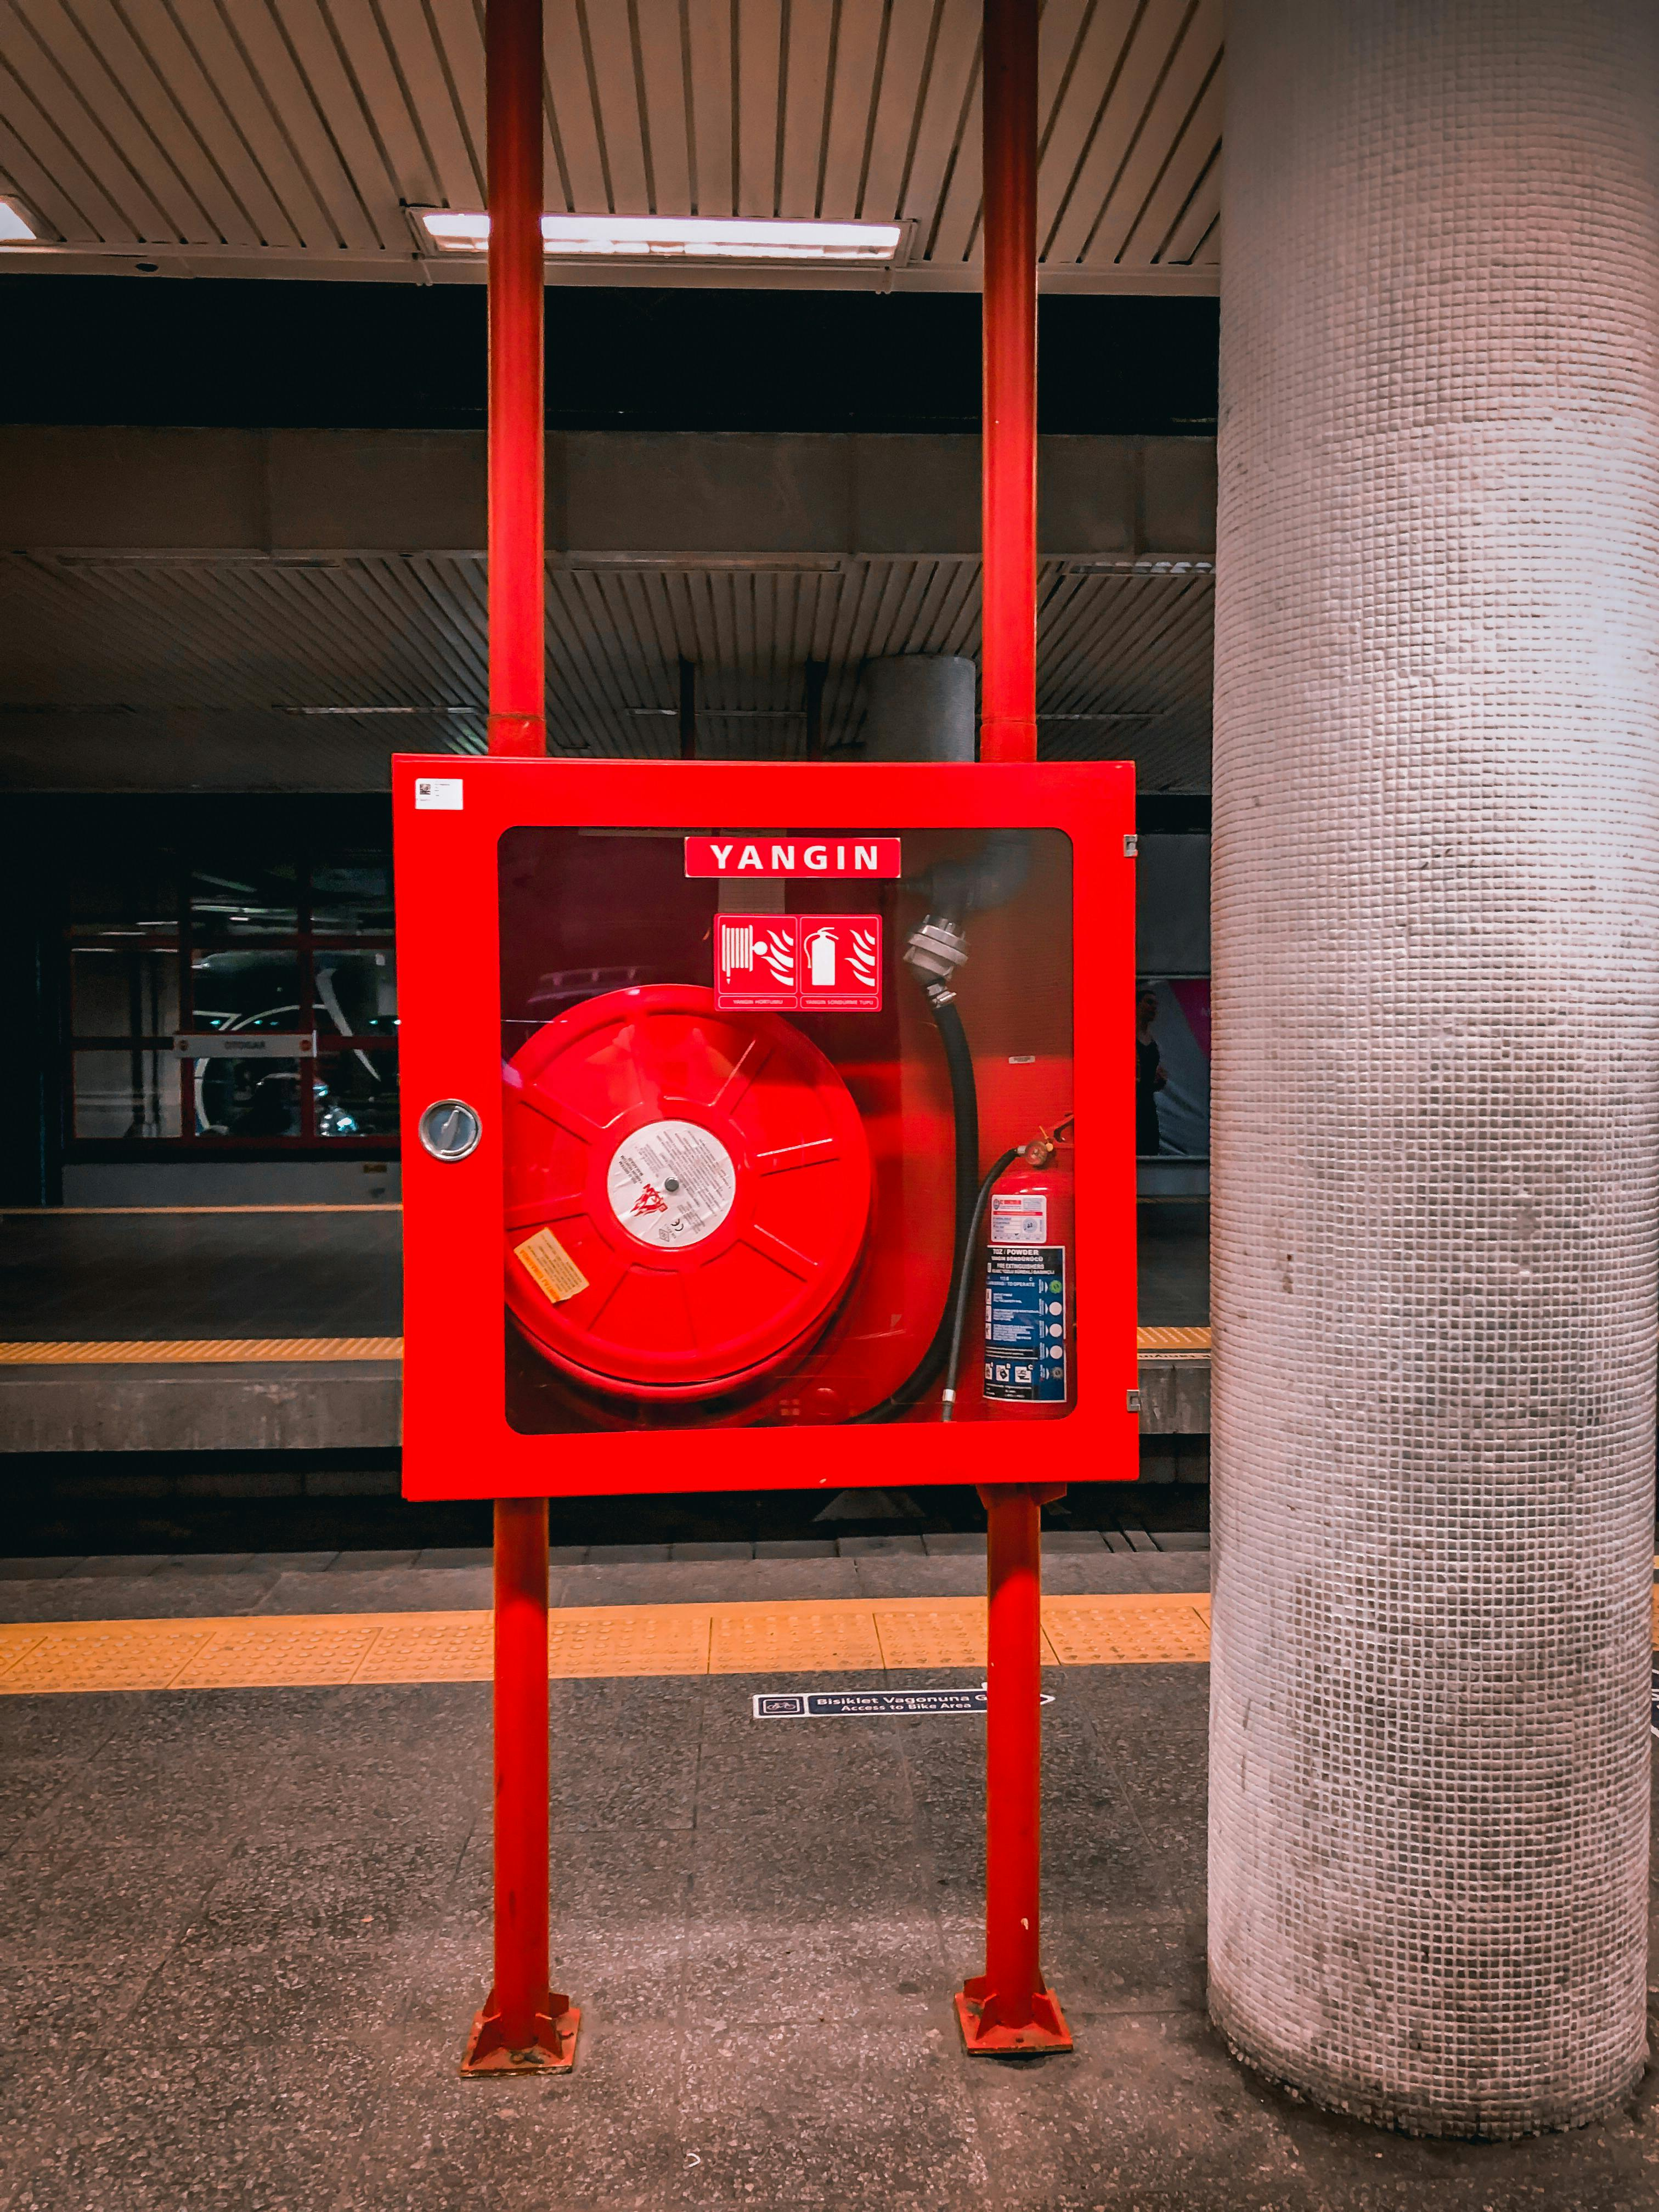extintor: (974, 1115, 1077, 1420)
